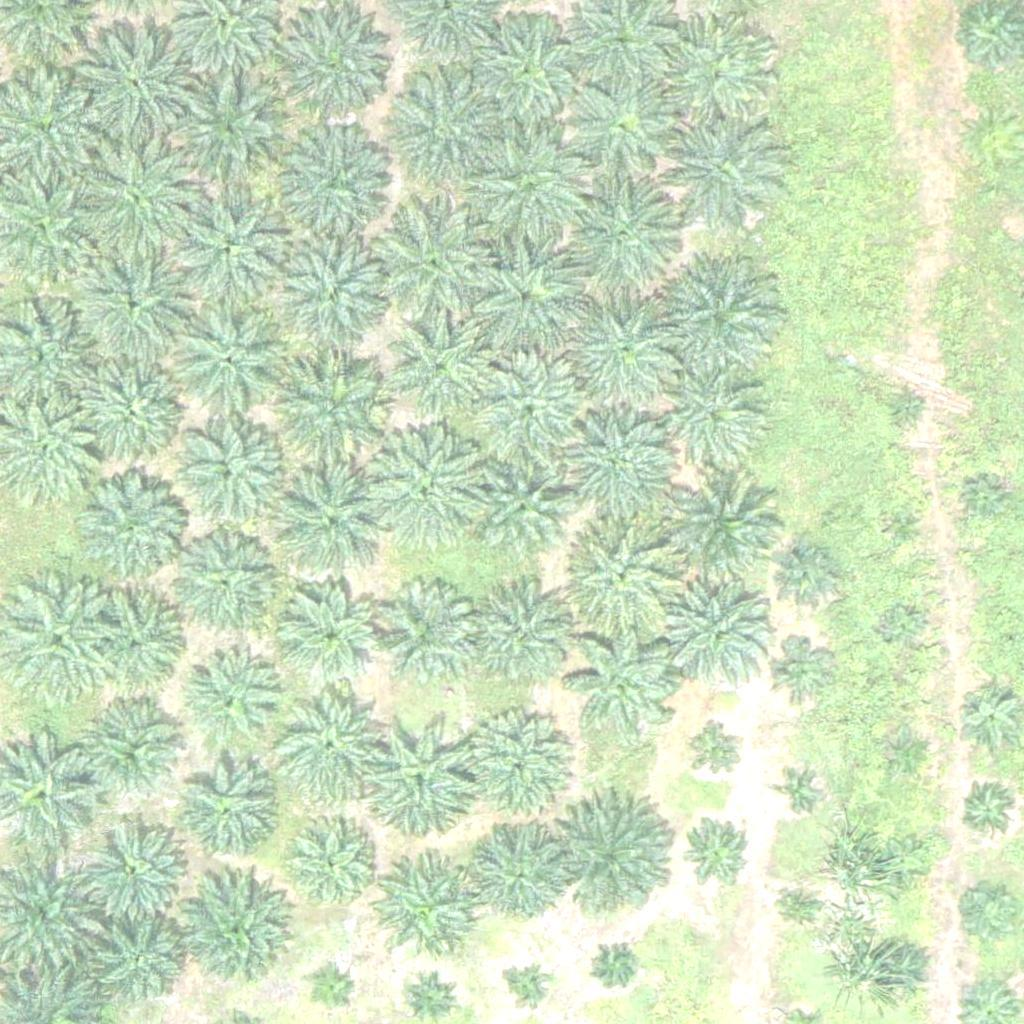Kelapa_Sawit: (468, 10, 593, 136), (655, 12, 780, 138), (70, 134, 195, 260), (72, 238, 197, 364), (68, 345, 193, 471), (64, 466, 189, 592), (166, 416, 291, 542), (166, 299, 291, 425), (273, 2, 398, 128), (276, 120, 401, 246), (272, 346, 397, 472), (271, 462, 396, 588), (369, 202, 494, 328), (376, 70, 501, 196), (465, 133, 590, 259), (459, 236, 584, 362), (467, 358, 592, 484), (554, 409, 679, 535), (562, 295, 687, 421), (557, 174, 682, 300), (659, 112, 784, 238), (655, 257, 780, 383), (666, 477, 791, 603), (360, 716, 485, 842), (268, 682, 393, 808), (71, 20, 196, 145), (172, 182, 297, 307), (172, 70, 297, 195), (272, 233, 397, 358), (367, 429, 492, 554), (556, 797, 681, 922), (177, 878, 290, 992), (568, 624, 681, 737), (457, 710, 570, 823), (78, 808, 190, 922), (665, 584, 777, 697), (569, 519, 681, 632), (366, 860, 478, 973), (392, 320, 492, 421), (666, 372, 766, 473), (467, 821, 567, 922), (473, 586, 573, 687), (372, 585, 472, 686), (282, 588, 382, 689), (281, 815, 381, 916), (170, 535, 270, 636), (182, 651, 282, 752), (84, 584, 184, 685), (573, 82, 673, 182), (174, 760, 274, 860), (87, 699, 187, 799), (96, 919, 184, 1007), (477, 468, 564, 557), (948, 877, 1023, 953), (680, 813, 755, 888), (871, 941, 934, 1004), (767, 640, 830, 703), (777, 542, 840, 605), (957, 684, 1019, 747), (694, 730, 744, 781), (882, 839, 932, 890), (405, 973, 455, 1023), (964, 786, 1014, 836), (306, 968, 356, 1018), (596, 943, 634, 981), (882, 606, 920, 644), (886, 508, 924, 546), (887, 389, 925, 427), (889, 732, 927, 770), (513, 969, 550, 1007), (968, 482, 1005, 520), (780, 777, 817, 814), (784, 887, 821, 924)
